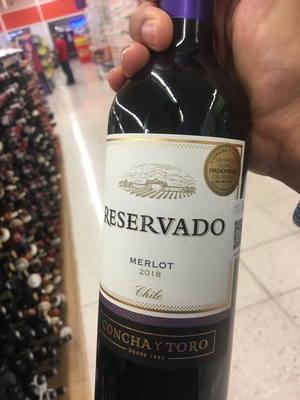reservado merlot: (94, 6, 252, 400)
